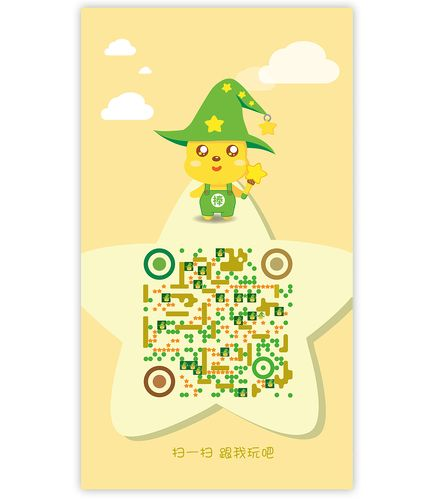QRCode: (136, 243, 302, 401)
